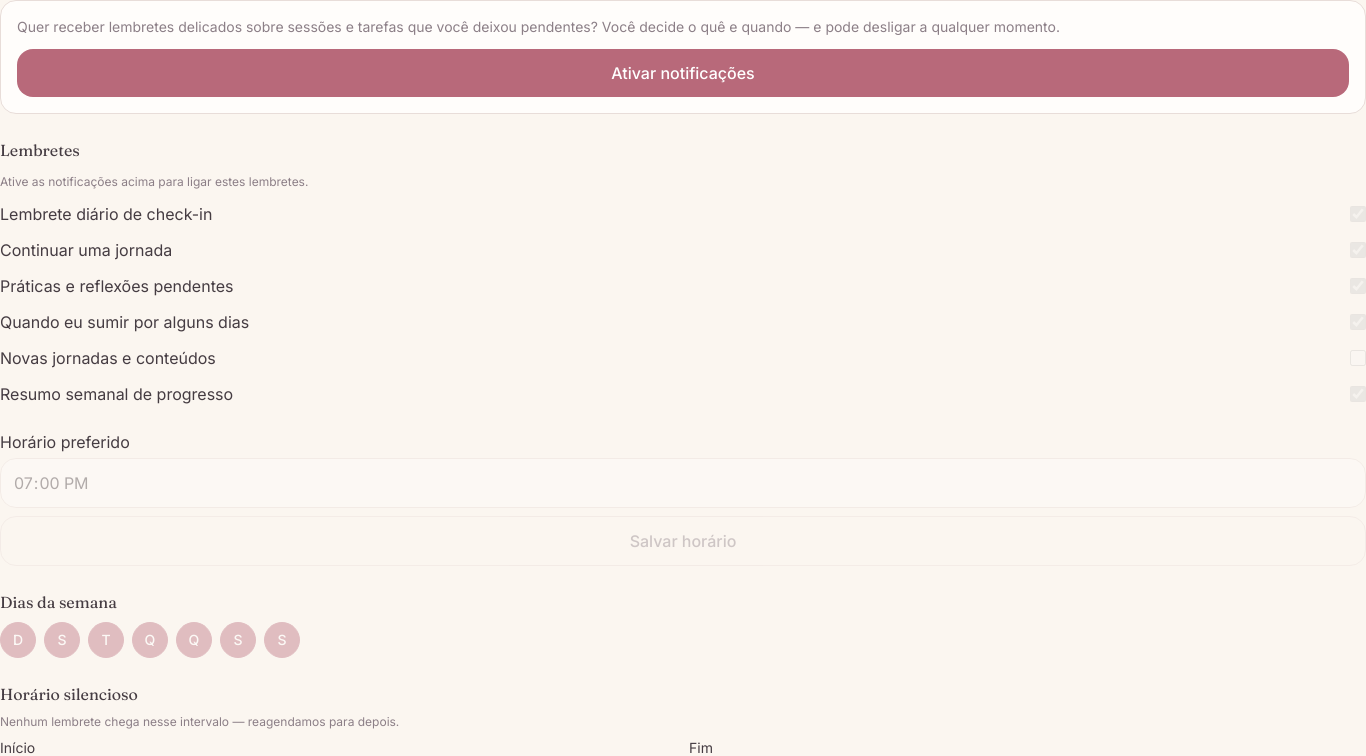
Scenario: NotificacoesForm › clicar em "Ativar notificações" e a permissão ser negada: mostra instrução de reativação, nunca insiste
This screenshot has width=1366, height=756.
Click the button "Ativar notificações".
click(683, 73)  # box [17, 49, 1349, 97]
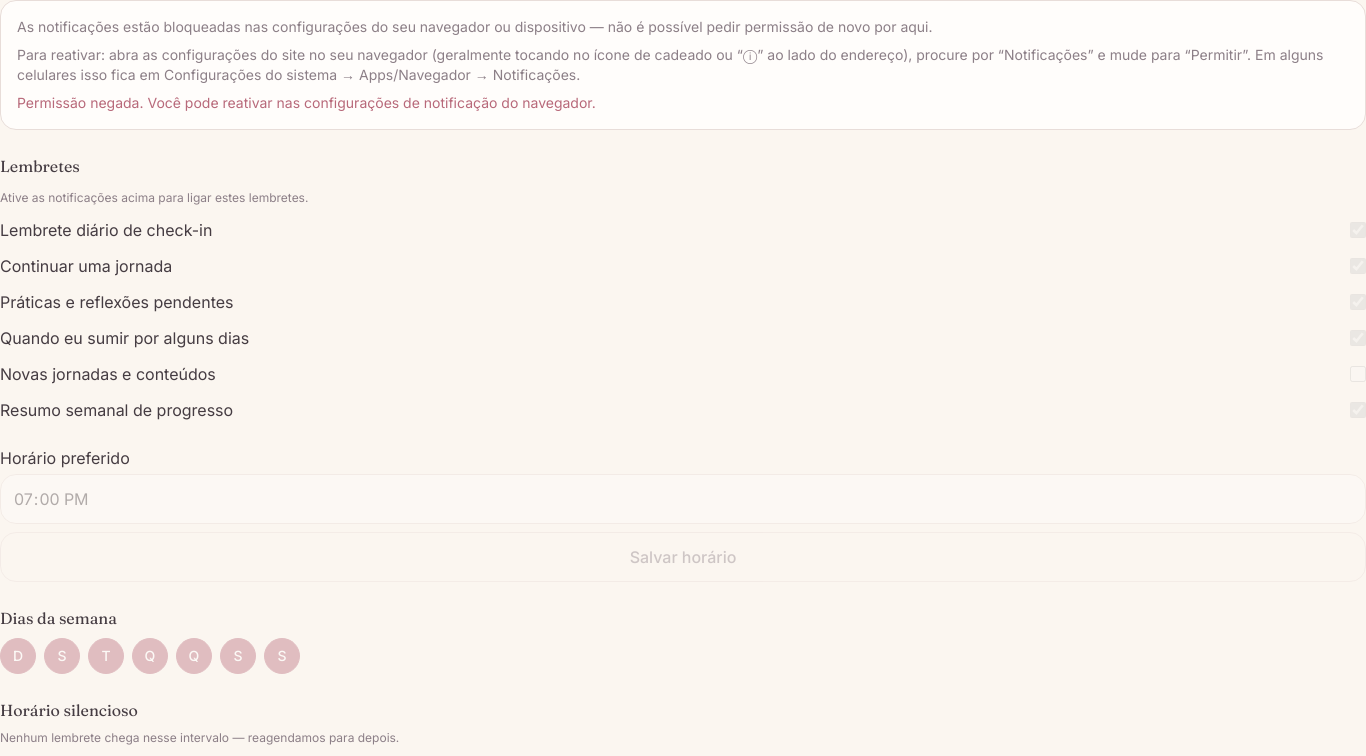
Now the text "Permissão negada" is shown, box [17, 94, 596, 111]
Now the button "Ativar notificações" is gone
